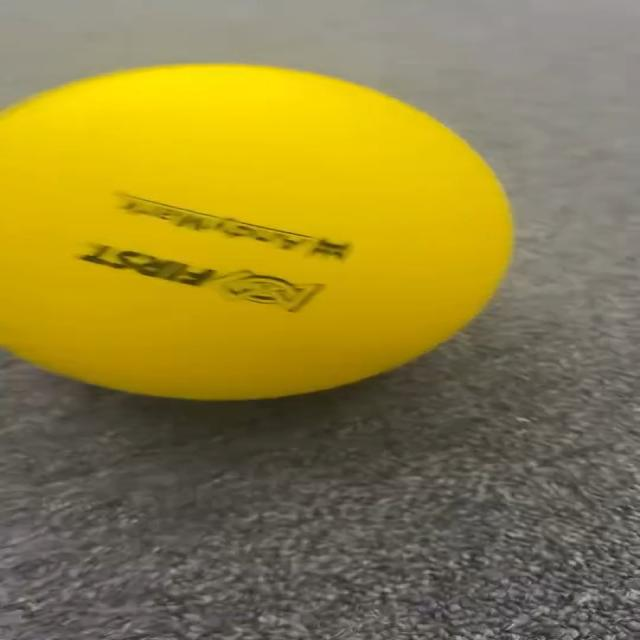Fuels: (1, 66, 510, 394)
